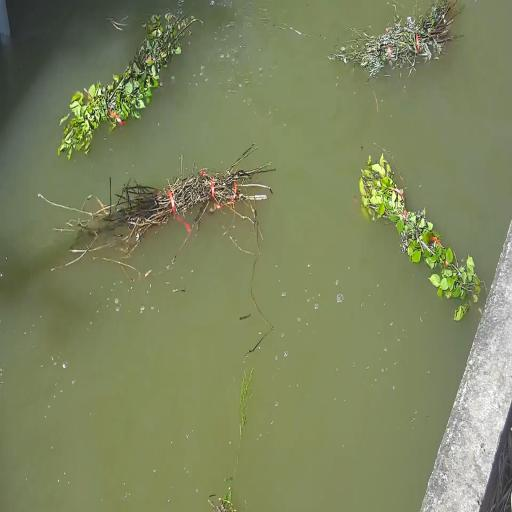twig: (47, 145, 274, 265), (58, 12, 198, 159), (359, 154, 482, 320), (359, 153, 481, 301), (330, 0, 458, 77), (225, 369, 253, 481), (209, 486, 236, 512)
